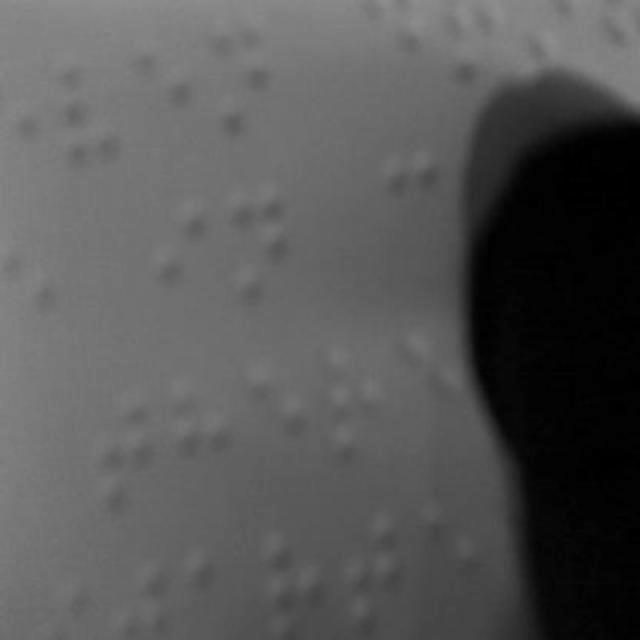braiile: (0, 219, 72, 365), (228, 178, 296, 328), (166, 370, 238, 508), (378, 142, 444, 290), (207, 7, 273, 153), (148, 194, 216, 334), (244, 352, 314, 488), (325, 338, 395, 472), (263, 512, 333, 640), (94, 382, 160, 516), (417, 494, 481, 632), (130, 35, 192, 168), (342, 513, 408, 637), (58, 55, 128, 168)
